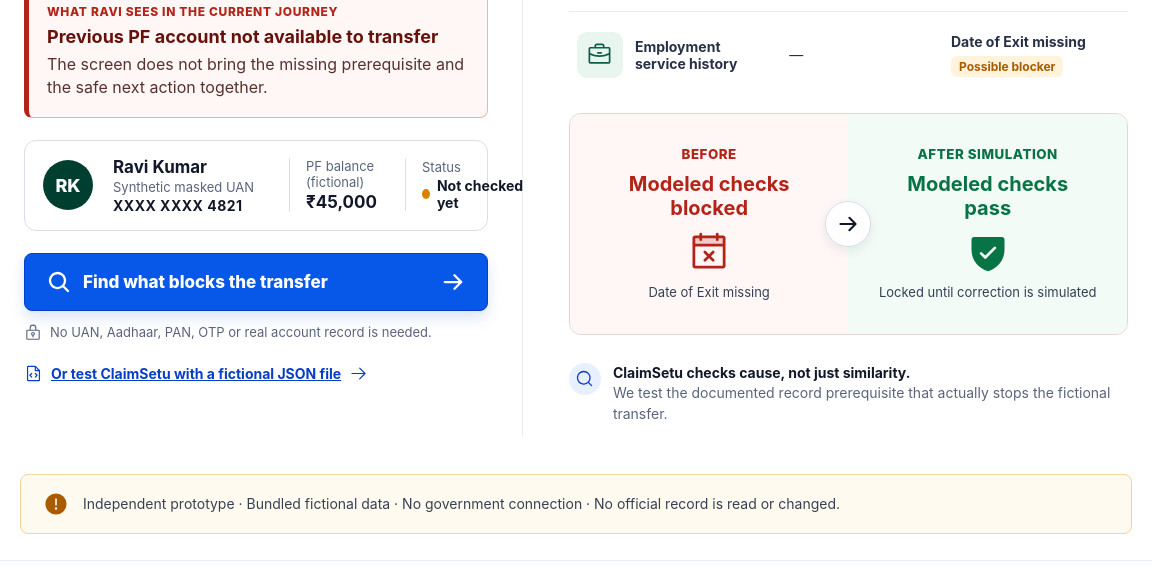
Test: ClaimPath EPFO pre-flight › completes from the generated static fallback when the API is unavailable
This screenshot has width=1152, height=566.
(page scrolled)
What coordinates should you click on to do the following:
click the button "Find what blocks the transfer"
I would click on:
 (256, 282)
Its box is top-left (24, 252), bottom-right (488, 310).
(page scrolled)
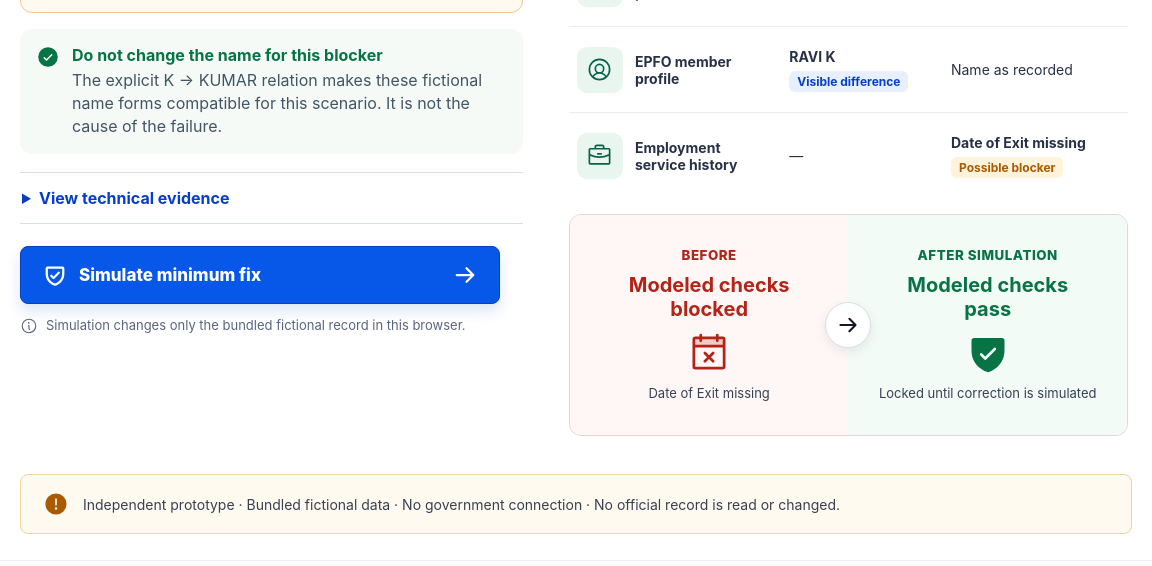
What coordinates should you click on to do the following:
click the button "Simulate minimum fix"
I would click on:
 (260, 275)
Its box is top-left (20, 246), bottom-right (500, 304).
(page scrolled)
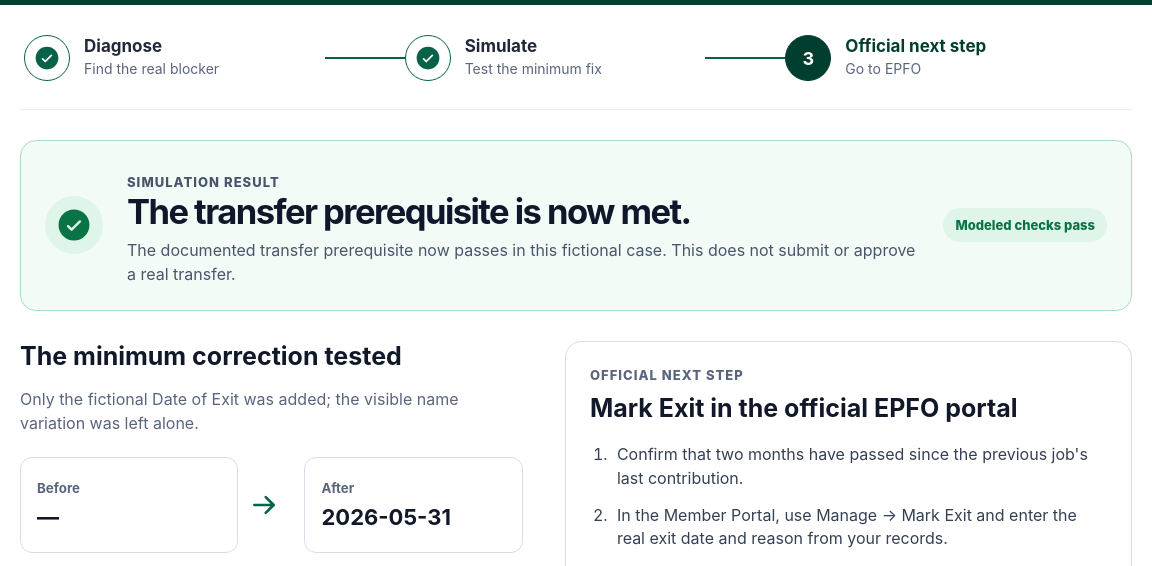
Expected: the heading "The transfer prerequisite is now met." is shown, top-left (127, 192), bottom-right (777, 230)
